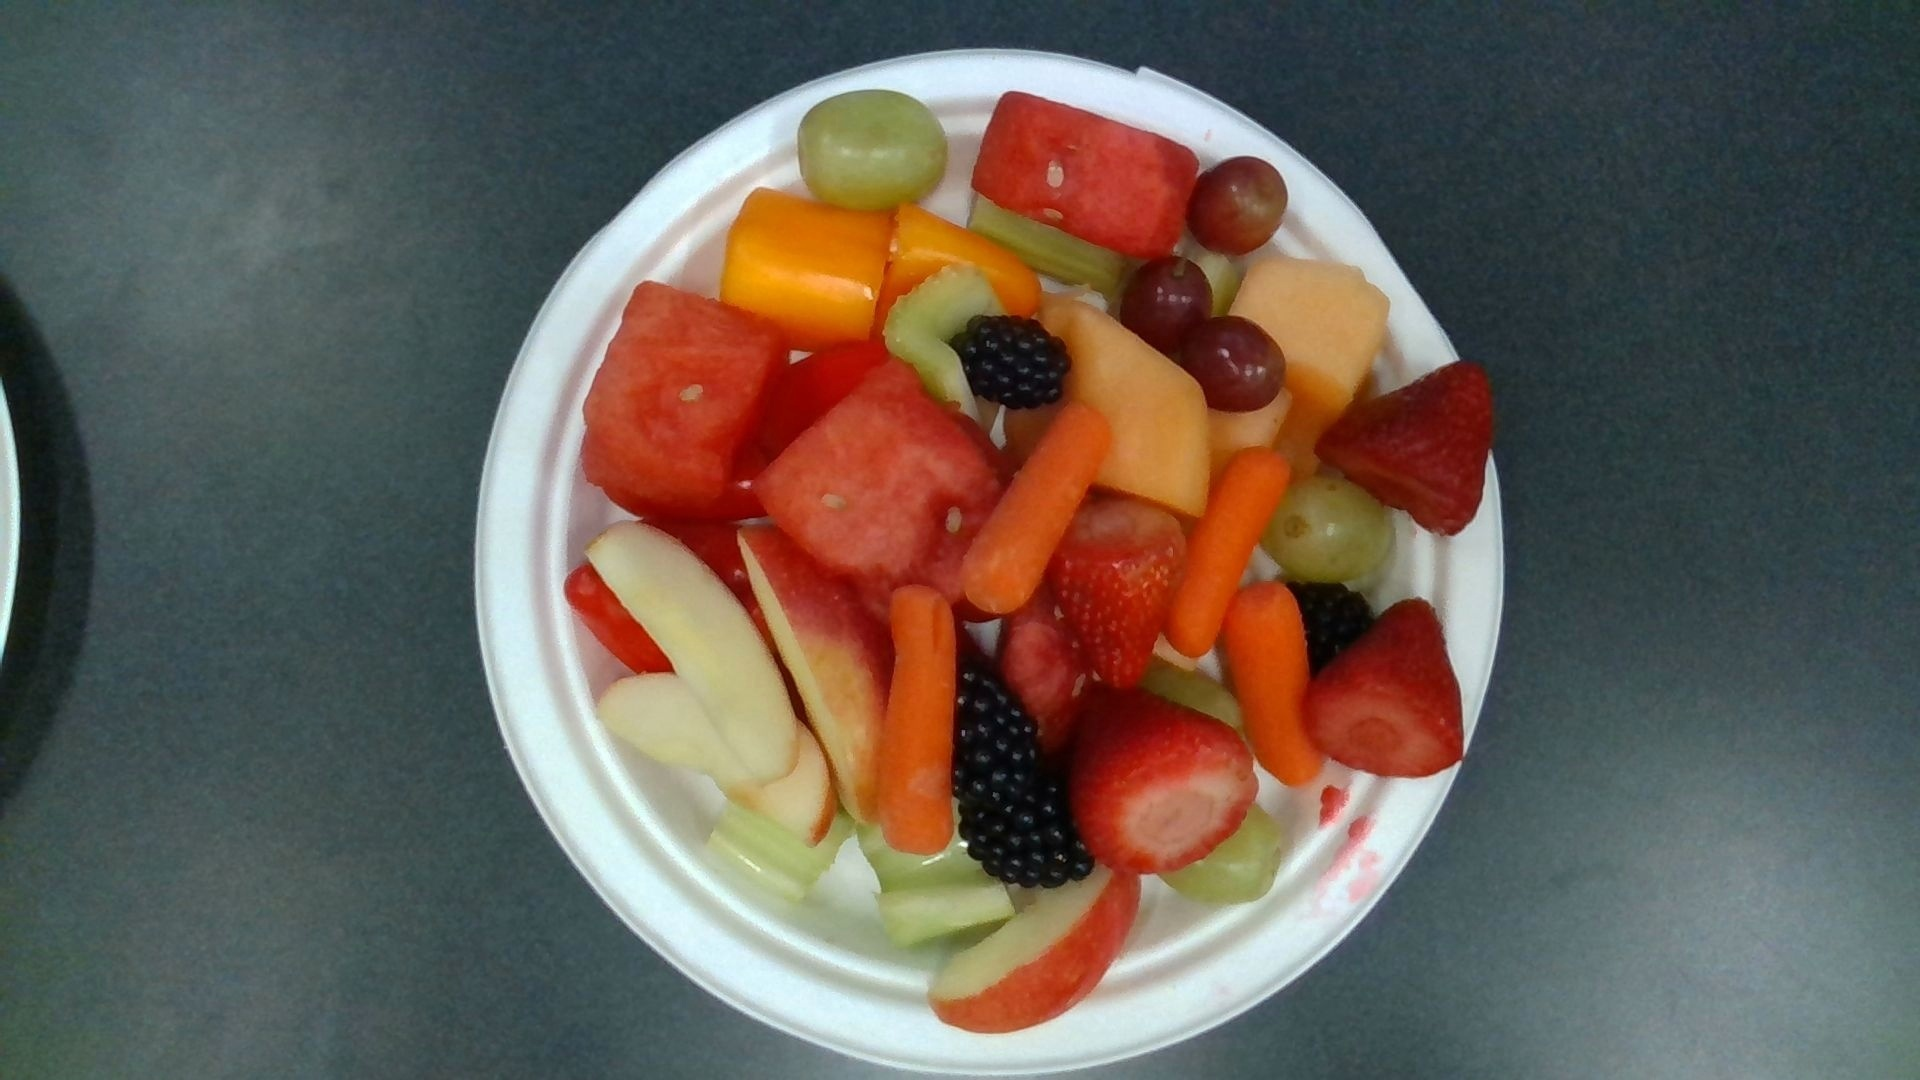apple: (584, 525, 796, 781), (746, 531, 895, 823), (930, 873, 1142, 1033)
bell_pepper: (727, 189, 891, 340)
blackberry: (963, 766, 1085, 886), (953, 323, 1069, 404)
cantalope: (1009, 309, 1211, 510), (1229, 265, 1390, 401)
carrot: (964, 405, 1110, 608), (1170, 451, 1292, 658), (877, 589, 960, 855), (1226, 585, 1315, 783)
grape_green: (800, 94, 949, 204), (1261, 480, 1389, 578)
grape_purple: (1193, 160, 1287, 258), (1184, 320, 1282, 407)
melon: (760, 388, 1002, 588), (589, 285, 779, 508), (975, 95, 1197, 261)
strawberry: (1073, 684, 1250, 876), (1317, 367, 1491, 535), (1302, 605, 1460, 775), (1048, 512, 1184, 691)
